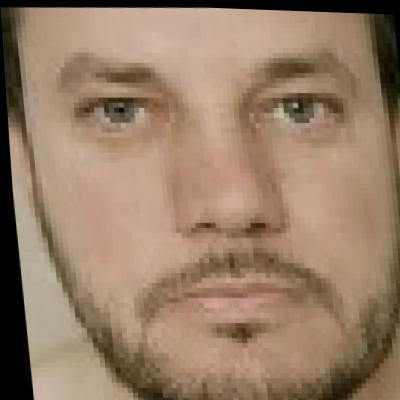netural: (17, 7, 400, 400)
